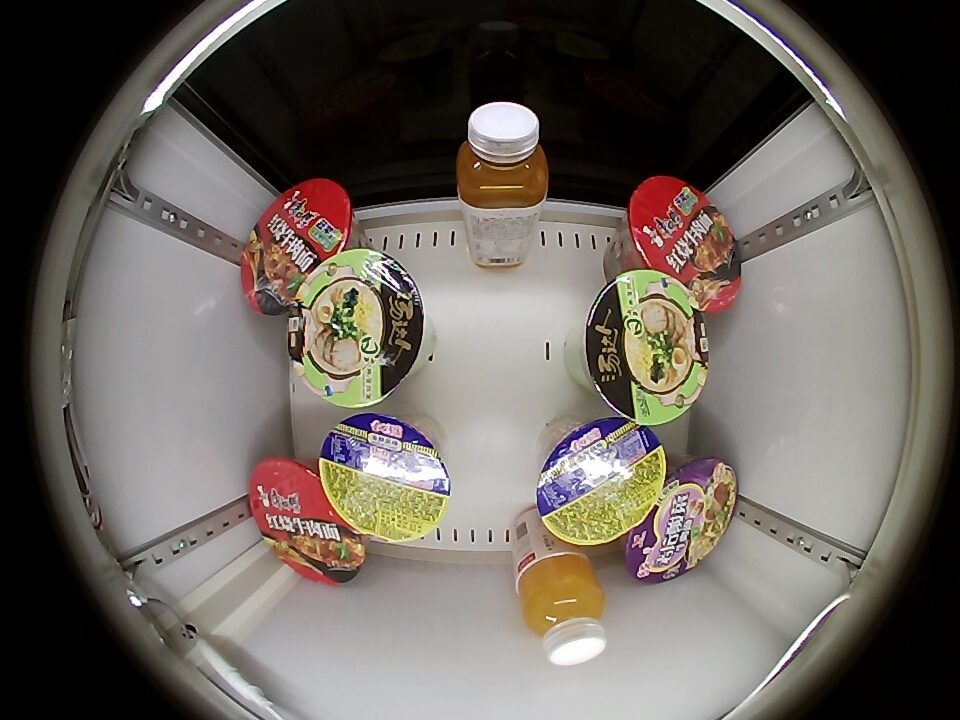chapai: (456, 102, 549, 211)
heweidao: (317, 412, 451, 543), (537, 418, 667, 548)
hongshaoniurou: (628, 177, 743, 314), (241, 179, 352, 315), (251, 459, 365, 587)
laotansuancai: (625, 456, 738, 583)
tangdaren: (287, 247, 425, 408), (581, 269, 710, 426)
weic: (516, 556, 608, 665)
